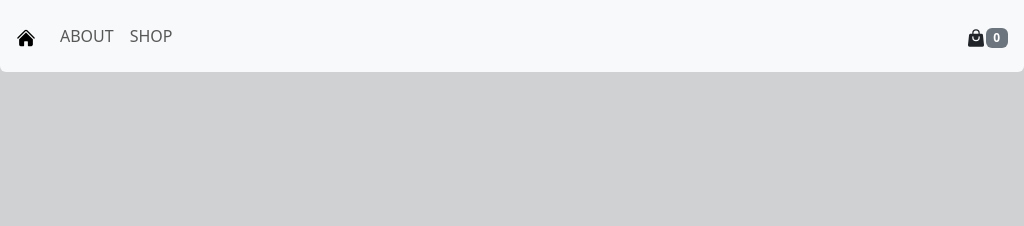
Test case: Root Component › checkoutCard visible once clicked
The image size is (1024, 226).
Click the button with test id "toggler". click: (987, 36)
box: [966,24,1008,48]
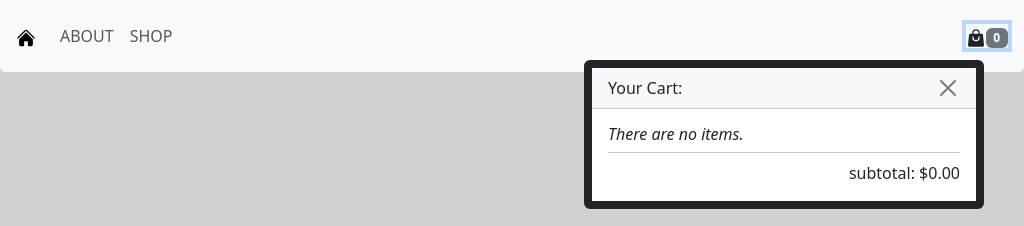
Check: the element with test id "checkoutCard" is shown, box [584,60,984,209]
